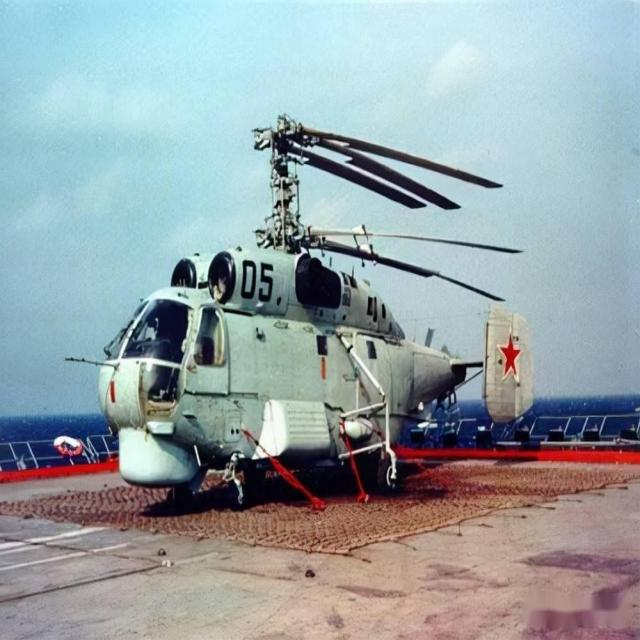MIL_HELO: (61, 97, 525, 505)
